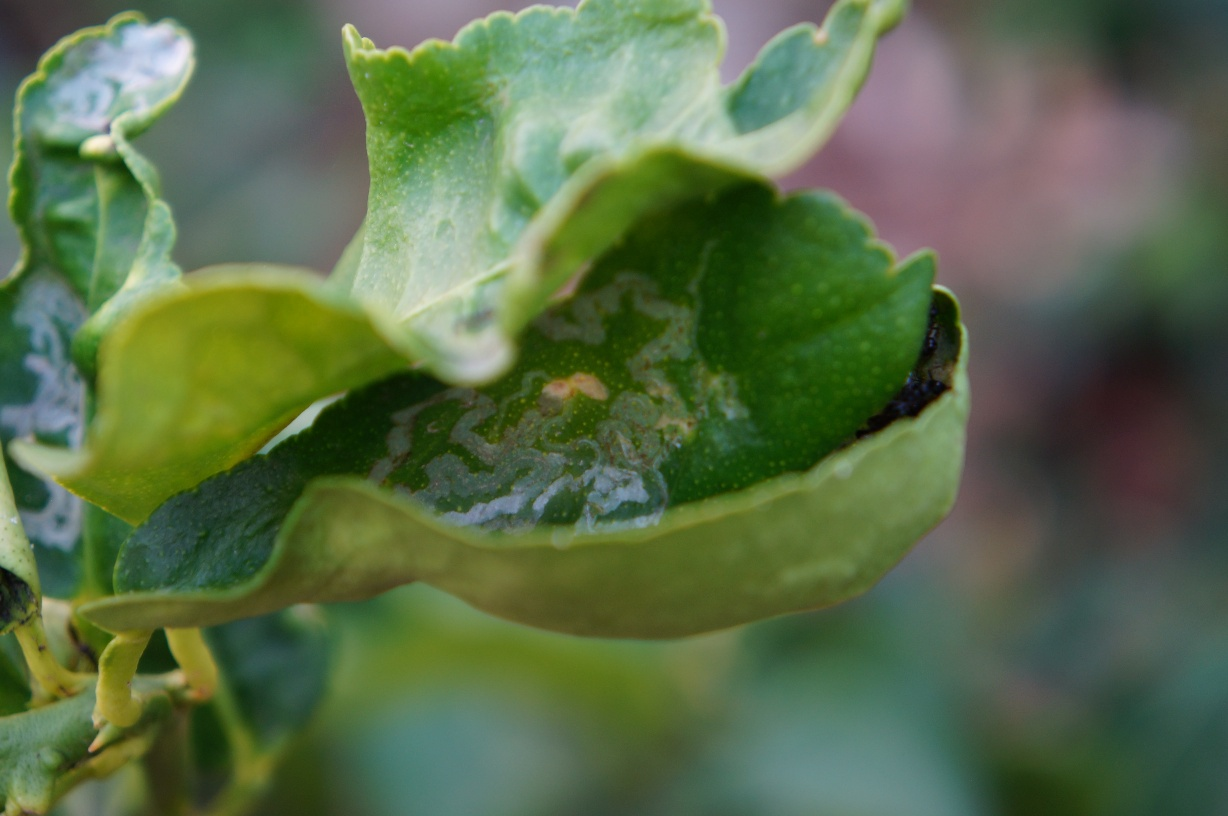damage: (318, 280, 748, 549)
